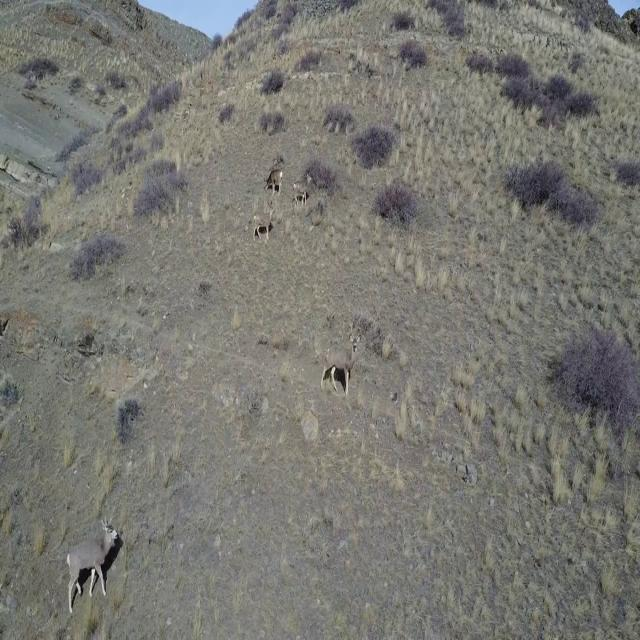Deer: (64, 509, 120, 616), (319, 313, 365, 407), (248, 197, 276, 244), (292, 167, 314, 209), (262, 161, 286, 196)
